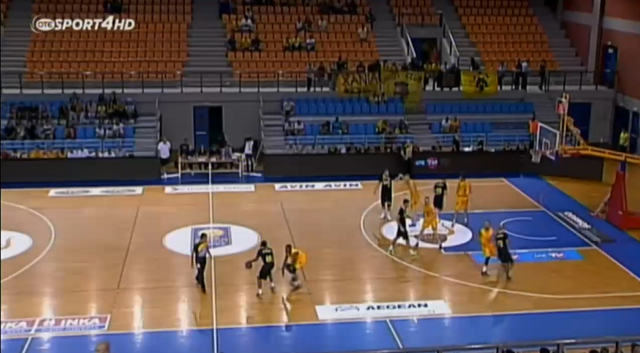ball: (241, 260, 253, 273)
basket: (529, 148, 544, 166)
player: (279, 237, 315, 292), (414, 194, 445, 255), (251, 238, 279, 298), (389, 198, 419, 251), (189, 231, 214, 293), (451, 173, 476, 228), (477, 219, 498, 276), (495, 224, 513, 283), (375, 168, 394, 220), (433, 171, 450, 214)
